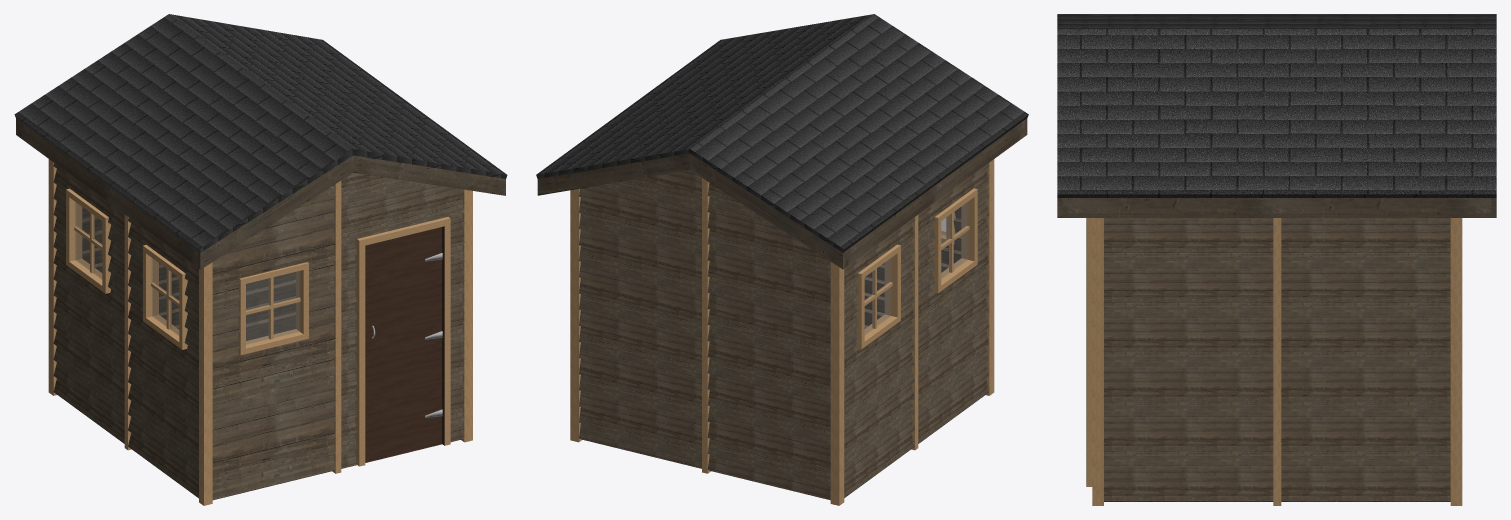
Rendered from garden_shed.glb.
The picture shows the model from 3 angles, left to right: view 1: azimuth 30°, elevation 25°; view 2: azimuth 150°, elevation 25°; view 3: azimuth 270°, elevation 25°; orthographic projection. The views are drawn at different scales.
Visible parts, largest first — view 1: G-atap, _G-pintu (Loose Mesh), G-jendela depan, G-penyangga belakang kiri; view 2: G-atap, G-penyangga belakang kiri, G-jendela depan; view 3: G-atap, G-penyangga belakang kiri, G-jendela depan.
Part boxes in pixels (x1,y1,x2,y2): G-atap: [14, 14, 507, 499]; _G-pintu (Loose Mesh): [365, 226, 444, 462]; G-jendela depan: [66, 188, 450, 466]; G-penyangga belakang kiri: [48, 159, 472, 505]; G-atap: [536, 14, 1028, 499]; G-penyangga belakang kiri: [570, 159, 994, 505]; G-jendela depan: [856, 188, 977, 349]; G-atap: [1057, 14, 1496, 501]; G-penyangga belakang kiri: [1092, 218, 1462, 505]; G-jendela depan: [1086, 218, 1092, 486].
Bounding box in the file's own units: 3.07 × 3.19 × 3.18.
Materials: 9 (8 with a texture image).
